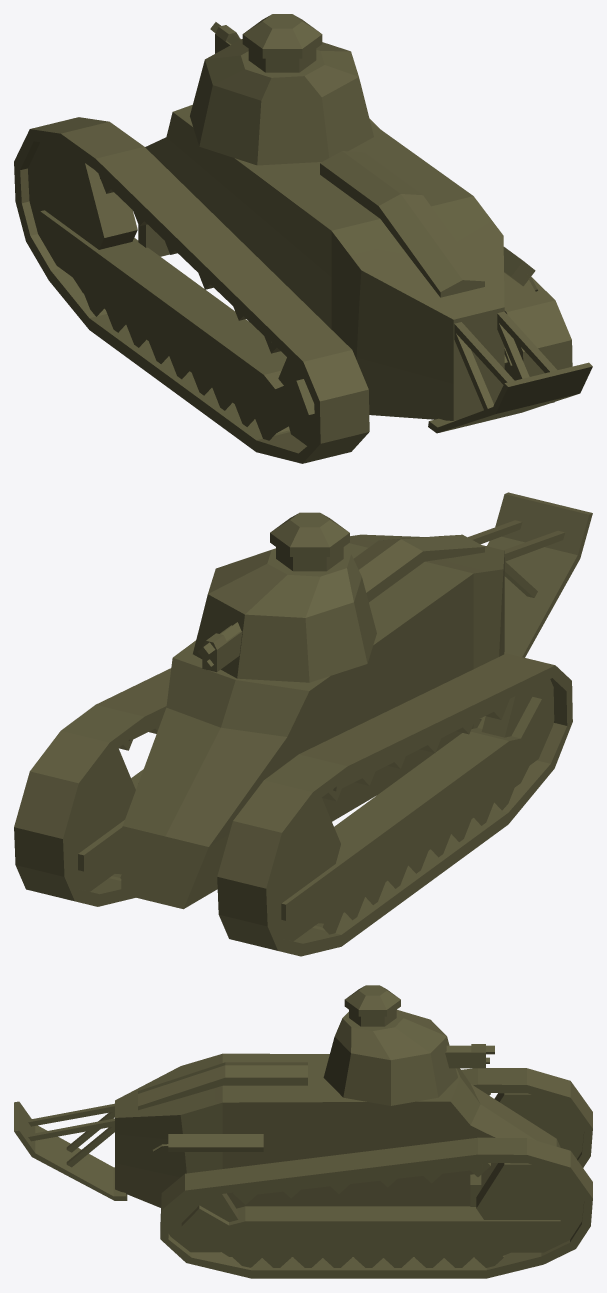
The model's file is renault-ft.fbx.
3 views of the same model, one above another, from view 1: azimuth 30°, elevation 25°; view 2: azimuth 150°, elevation 25°; view 3: azimuth 270°, elevation 25° (orthographic). The views are drawn at different scales.
Visible parts, largest first — view 1: GUN_FT17P_LP; view 2: GUN_FT17P_LP; view 3: GUN_FT17P_LP.
Boxes of the visible parts, x1,y1,x2,y2 form: GUN_FT17P_LP: (14,14,592,463); GUN_FT17P_LP: (14,492,592,956); GUN_FT17P_LP: (14,985,592,1278).
Bounding box in the file's own units: 176 × 227 × 496.
